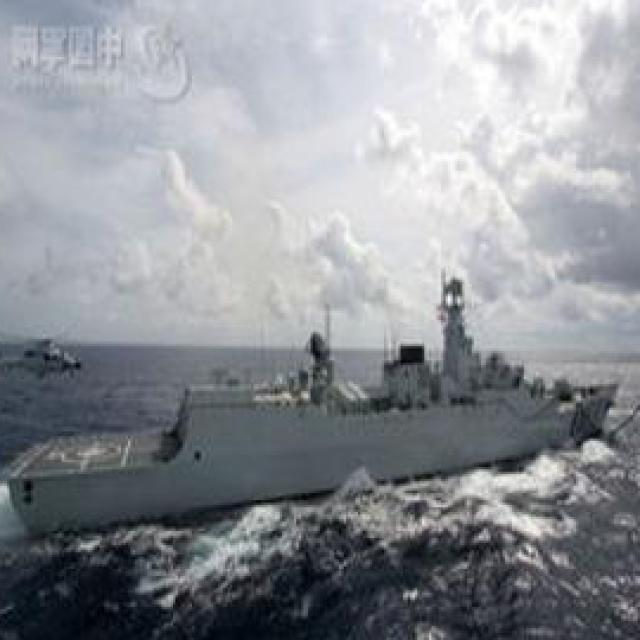navalvessels: (0, 287, 612, 559)
